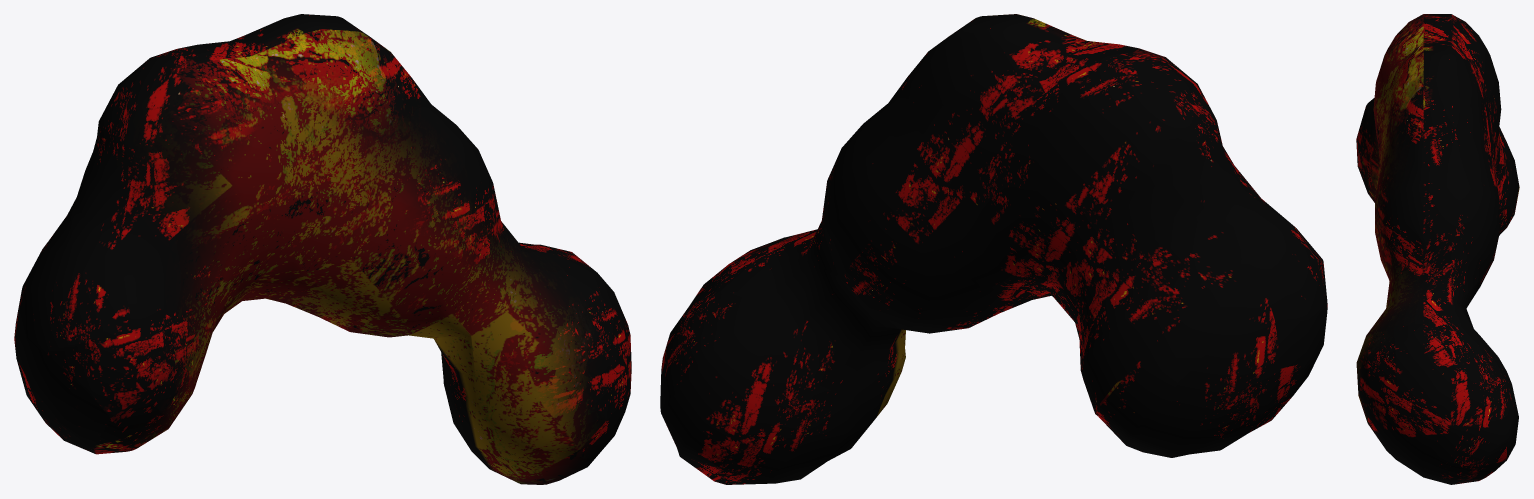
File: mtn-1.glb
3 views of the same model, side by side, from view 1: azimuth 30°, elevation 25°; view 2: azimuth 150°, elevation 25°; view 3: azimuth 270°, elevation 25° (orthographic). The views are drawn at different scales.
Parts seen in each view (by area): view 1: Mtn_Baked; view 2: Mtn_Baked; view 3: Mtn_Baked.
Part boxes in pixels (left/top/right/bottom): Mtn_Baked: left=14, top=14, right=631, bottom=484; Mtn_Baked: left=660, top=14, right=1327, bottom=484; Mtn_Baked: left=1356, top=14, right=1519, bottom=484.
Size of the model in its own units: 24.99 by 20.04 by 8.58.
1 material, 1 textured.
